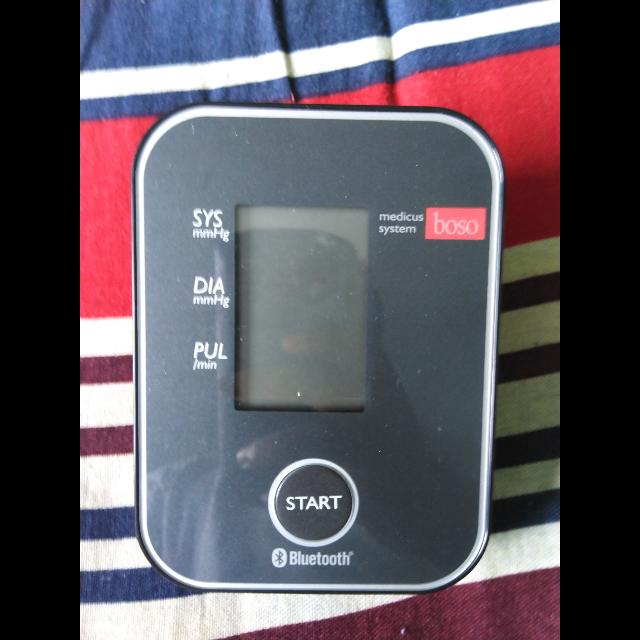Blood-Pressure-Monitor: (122, 99, 490, 586)
